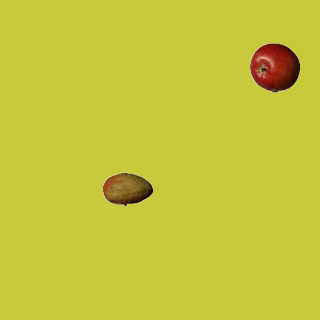Apple Braeburn: (249, 42, 299, 92)
Papaya: (102, 164, 152, 214)
